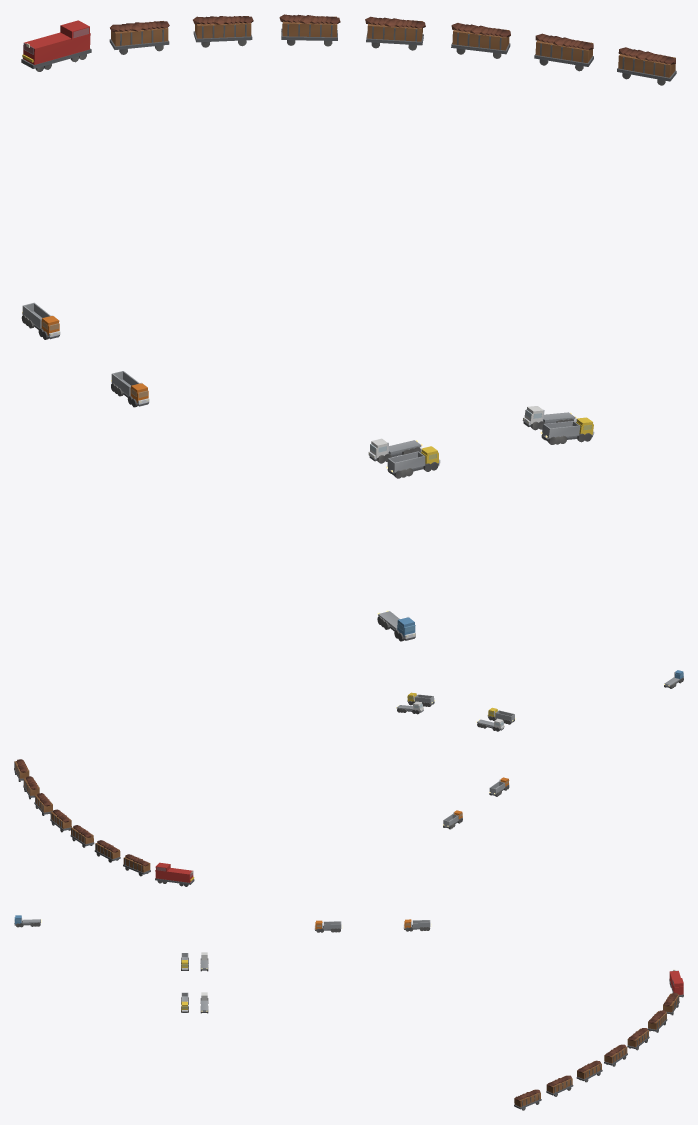
File: Vehicles_P3.fbx
3 renders of one model, top to bottom at view 1: azimuth 30°, elevation 25°; view 2: azimuth 150°, elevation 25°; view 3: azimuth 270°, elevation 25°, orthographic. The views are drawn at different scales.
Visible parts, largest first — view 1: train, wagon.004, wagon.005, wagon, wagon.006, wagon.001, wagon.003, wagon.002, truck_road_ore2, truck_road_ore3, truck_road_ore0; view 2: train, wagon, wagon.001, wagon.002, wagon.003; view 3: wagon.005, wagon.006, wagon.004, wagon.003, wagon.002, train.
Part boxes in pixels (<box>): train: <box>21,20,91,71</box>; wagon.004: <box>451,23,510,58</box>; wagon.005: <box>534,33,593,71</box>; wagon: <box>109,21,169,54</box>; wagon.006: <box>617,47,676,85</box>; wagon.001: <box>193,16,253,47</box>; wagon.003: <box>365,16,425,50</box>; wagon.002: <box>279,14,340,46</box>; truck_road_ore2: <box>386,446,440,478</box>; truck_road_ore3: <box>540,417,594,444</box>; truck_road_ore0: <box>21,302,60,339</box>; train: <box>155,862,194,886</box>; wagon: <box>123,854,150,876</box>; wagon.001: <box>94,840,120,862</box>; wagon.002: <box>70,825,94,847</box>; wagon.003: <box>50,809,71,832</box>; wagon.005: <box>546,1075,573,1096</box>; wagon.006: <box>514,1089,541,1110</box>; wagon.004: <box>576,1060,602,1082</box>; wagon.003: <box>604,1044,627,1066</box>; wagon.002: <box>627,1028,649,1050</box>; train: <box>669,969,683,997</box>.
Bounding box in the file's own units: 16561 × 1140 × 24667.
